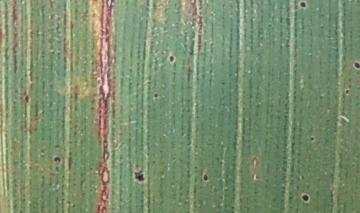tarspot: (132, 169, 146, 183), (300, 193, 310, 203), (167, 54, 176, 64), (201, 171, 209, 182), (53, 155, 62, 164), (353, 60, 360, 71), (23, 95, 30, 105), (298, 1, 307, 8), (308, 135, 315, 143), (344, 87, 350, 96), (153, 92, 159, 99)
